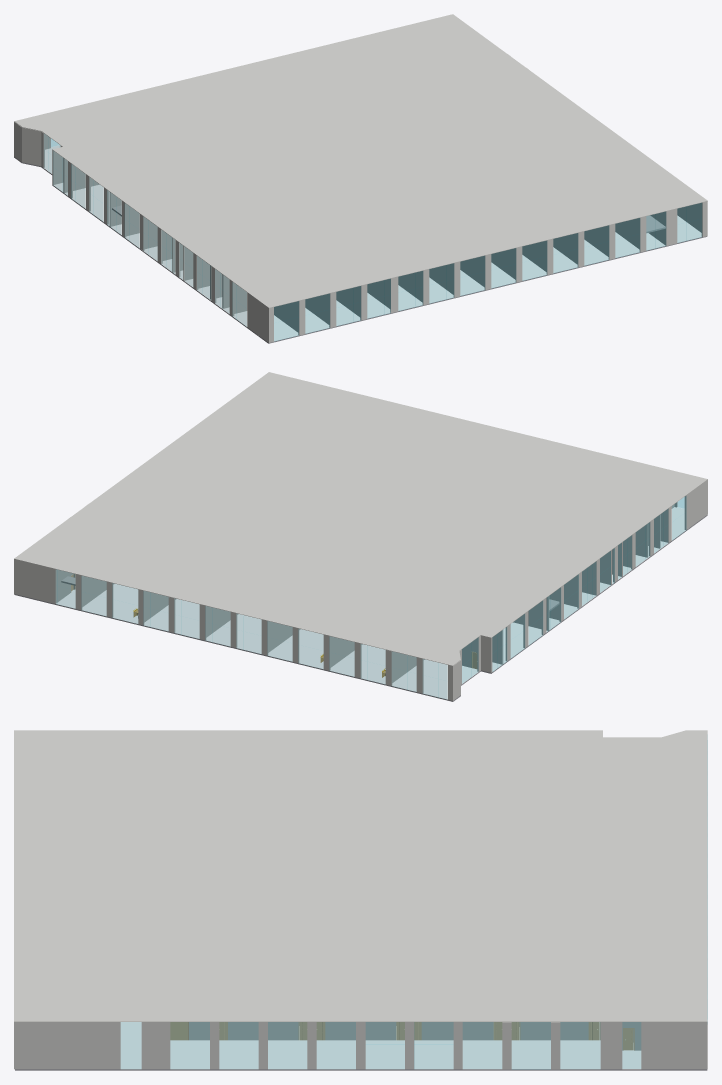
Rendered from 6L墙体.gltf.
The picture shows the model from 3 angles, top to bottom: view 1: azimuth 30°, elevation 25°; view 2: azimuth 150°, elevation 25°; view 3: azimuth 270°, elevation 25°; orthographic projection. The views are drawn at different scales.
Parts seen in each view (by area): view 1: 600 x 1200mm 轴网 [695743], 常规 140 - 20+120 [567618], 常规 - 200mm [593604], 常规 - 200mm [459513], 常规 - 200mm [574074], 常规 - 200mm [456904], 常规 - 200mm [457103], 常规 - 200mm [456980], 常规 - 200mm [457192], 常规 - 200mm [457034], 常规 - 200mm [457360], 常规 - 200mm [457410]; view 2: 600 x 1200mm 轴网 [695743], 常规 140 - 20+120 [567618], 常规 - 200mm [588051], 常规 - 200mm [593604], 常规 - 200mm [456275], 常规 - 200mm [564793], 常规 - 200mm [459006], 常规 - 200mm [458896], 常规 - 200mm [564678], 常规 - 200mm [458827]; view 3: 600 x 1200mm 轴网 [695743], 常规 140 - 20+120 [567618], 常规 - 200mm [455200], 常规 - 200mm [574074], 常规 - 200mm [585223], 常规 - 200mm [587943], 常规 - 200mm [585568].
Part boxes in pixels (bbox=[...]): 600 x 1200mm 轴网 [695743]: bbox=[14, 14, 707, 308]; 常规 140 - 20+120 [567618]: bbox=[14, 145, 707, 343]; 常规 - 200mm [593604]: bbox=[247, 292, 270, 342]; 常规 - 200mm [459513]: bbox=[24, 128, 41, 165]; 常规 - 200mm [574074]: bbox=[677, 201, 707, 236]; 常规 - 200mm [456904]: bbox=[274, 301, 298, 332]; 常规 - 200mm [457103]: bbox=[398, 271, 422, 302]; 常规 - 200mm [456980]: bbox=[305, 293, 329, 324]; 常规 - 200mm [457192]: bbox=[429, 263, 453, 294]; 常规 - 200mm [457034]: bbox=[336, 286, 360, 317]; 常规 - 200mm [457360]: bbox=[491, 248, 515, 279]; 常规 - 200mm [457410]: bbox=[522, 240, 546, 271]; 600 x 1200mm 轴网 [695743]: bbox=[14, 372, 707, 665]; 常规 140 - 20+120 [567618]: bbox=[14, 507, 707, 701]; 常规 - 200mm [588051]: bbox=[15, 559, 54, 603]; 常规 - 200mm [593604]: bbox=[684, 480, 707, 529]; 常规 - 200mm [456275]: bbox=[462, 635, 492, 672]; 常规 - 200mm [564793]: bbox=[330, 636, 362, 667]; 常规 - 200mm [459006]: bbox=[268, 621, 300, 652]; 常规 - 200mm [458896]: bbox=[206, 606, 238, 637]; 常规 - 200mm [564678]: bbox=[392, 651, 424, 682]; 常规 - 200mm [458827]: bbox=[144, 591, 176, 622]; 600 x 1200mm 轴网 [695743]: bbox=[14, 730, 707, 1021]; 常规 140 - 20+120 [567618]: bbox=[15, 1022, 707, 1070]; 常规 - 200mm [455200]: bbox=[189, 1022, 600, 1040]; 常规 - 200mm [574074]: bbox=[14, 1022, 118, 1069]; 常规 - 200mm [585223]: bbox=[641, 1022, 707, 1069]; 常规 - 200mm [587943]: bbox=[144, 1022, 170, 1069]; 常规 - 200mm [585568]: bbox=[603, 1022, 619, 1069].
Bounding box in the file's own units: 59.56 × 4.69 × 59.84.
16 materials, 1 textured.
